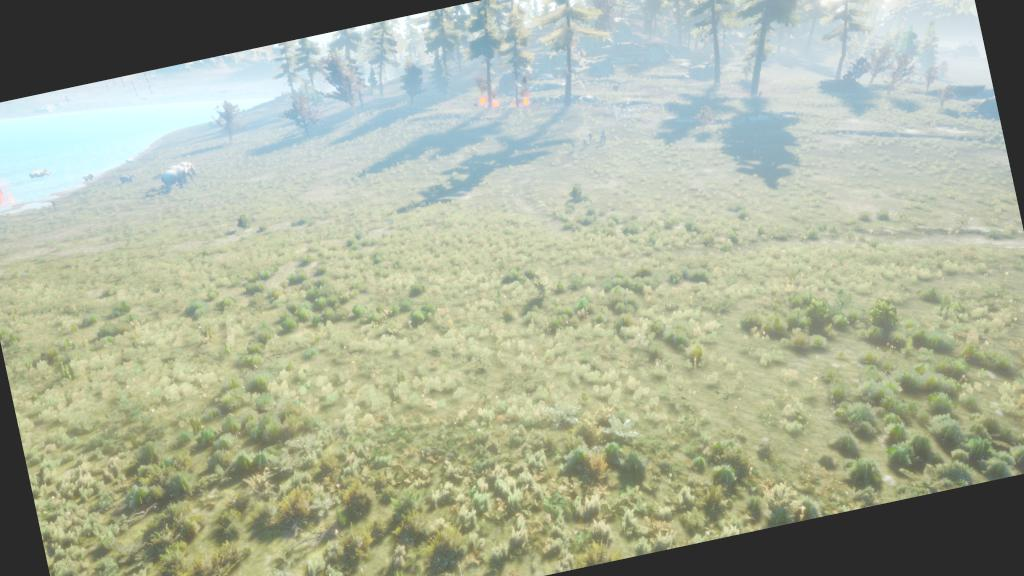Fire: (0, 169, 26, 221), (503, 83, 537, 114), (470, 87, 504, 116)
elephant: (156, 162, 198, 196), (164, 159, 201, 184)
hippopotamus: (112, 169, 142, 191)
human: (48, 197, 62, 214), (565, 138, 578, 154), (578, 136, 590, 152), (598, 130, 608, 146), (585, 130, 596, 144)
lion: (77, 169, 99, 187)
rhinoceros: (22, 160, 56, 186)
